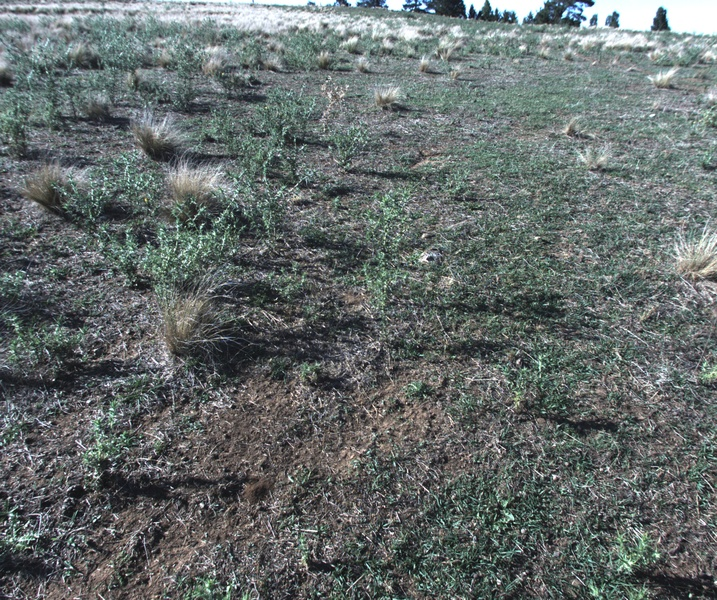st: (156, 289, 228, 373), (164, 164, 234, 227), (26, 166, 80, 225), (128, 103, 182, 159), (671, 225, 717, 276), (197, 43, 233, 70), (372, 82, 401, 115), (644, 65, 679, 92), (583, 144, 613, 172), (565, 114, 588, 140), (434, 41, 455, 60), (413, 54, 433, 72), (379, 38, 399, 53), (338, 34, 356, 47), (452, 67, 462, 82)
